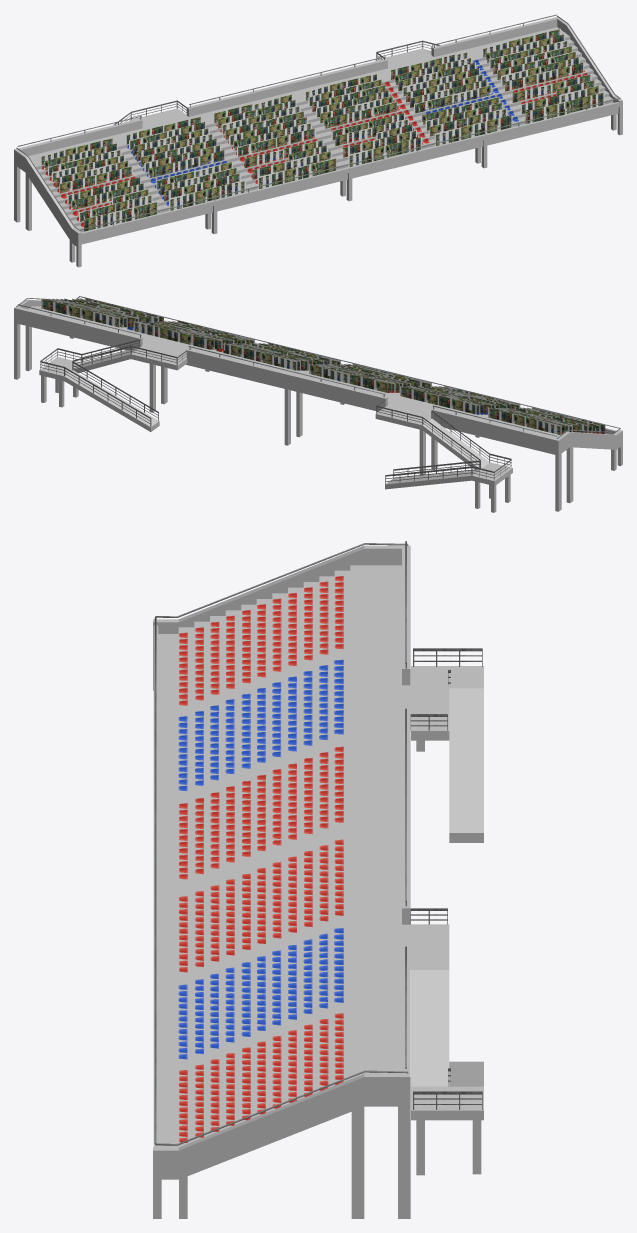
File: Stand-10.fbx
3 renders of one model, top to bottom at view 1: azimuth 30°, elevation 25°; view 2: azimuth 150°, elevation 25°; view 3: azimuth 270°, elevation 25°, orthographic. The views are drawn at different scales.
Visible parts, largest first — view 1: Audience, Stand-10; view 2: Stand-10, Audience; view 3: Stand-10.
Boxes of the visible parts, bbox=[...] form: Audience: bbox=[40, 28, 604, 231]; Stand-10: bbox=[14, 14, 622, 267]; Stand-10: bbox=[14, 296, 622, 512]; Audience: bbox=[41, 298, 605, 435]; Stand-10: bbox=[153, 541, 483, 1218].
Bounding box in the file's own units: 8064 × 1083 × 2122.
